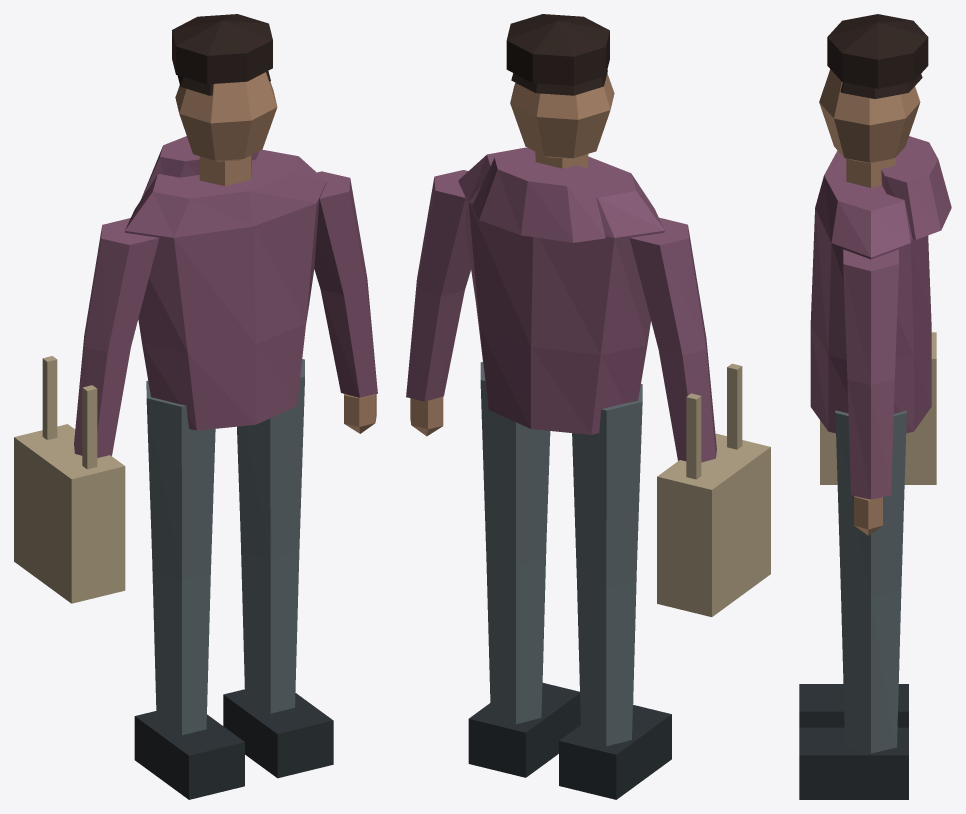
Rendered from pedestrian-tote.lod0.glb.
The picture shows the model from 3 angles, left to right: view 1: azimuth 30°, elevation 25°; view 2: azimuth 150°, elevation 25°; view 3: azimuth 270°, elevation 25°; orthographic projection. The views are drawn at different scales.
Visible parts, largest first — view 1: pedestrian-body; view 2: pedestrian-body; view 3: pedestrian-body.
Boxes of the visible parts, x1,y1,x2,y2 form: pedestrian-body: [14, 14, 377, 799]; pedestrian-body: [406, 14, 770, 799]; pedestrian-body: [799, 14, 951, 799].
Bounding box in the file's own units: 0.7551 × 1.6 × 0.2984.
